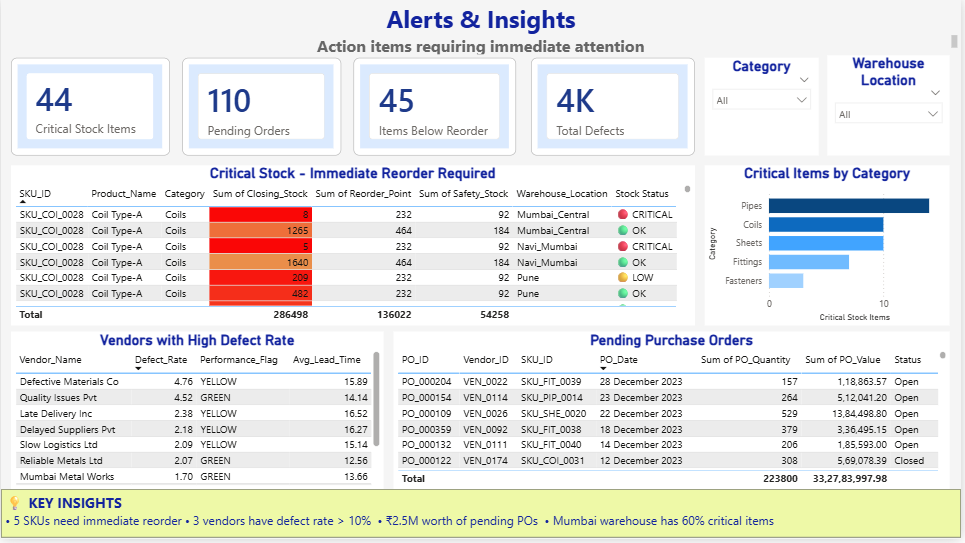

Layout of this report page (visuals, bound fields, positions):
{"tool":"powerbi","page":{"name":"Alerts & Insights","canvas":[1280,720],"ordinal":4},"visuals":[{"type":"textbox","box":[0,0,1280,55],"z":0},{"type":"textbox","box":[0,43.3,1280,35],"z":1000},{"type":"cardVisual","fields":{"Data":["_Measures.Critical Stock Items"]},"box":[13.3,78.3,211.7,130],"z":2000},{"type":"cardVisual","fields":{"Data":["_Measures.Items Below Reorder"]},"box":[470,78.3,216.7,130],"z":3000},{"type":"cardVisual","fields":{"Data":["_Measures.Total Defects"]},"box":[706.7,78.3,218.3,130],"z":4000},{"type":"cardVisual","fields":{"Data":["_Measures.Pending Orders"]},"box":[241.7,78.3,211.7,130],"z":5000},{"type":"tableEx","title":"Critical Stock - Immediate Reorder Required","fields":{"Values":["inventory_data.SKU_ID","inventory_data.Product_Name","inventory_data.Category","Sum(inventory_data.Closing_Stock)","Sum(inventory_data.Reorder_Point)","Sum(inventory_data.Safety_Stock)","inventory_data.Warehouse_Location","inventory_data.Stock Status"]},"box":[13.3,221.7,911.7,213.3],"z":5001},{"type":"tableEx","title":"Vendors with High Defect Rate","fields":{"Values":["vendor_scorecard.Vendor_Name","vendor_scorecard.Defect_Rate","vendor_scorecard.Performance_Flag","vendor_scorecard.Avg_Lead_Time"]},"box":[13.3,443.3,496.7,210],"z":5002},{"type":"clusteredBarChart","title":"Critical Items by Category","fields":{"Category":["inventory_data.Category"],"Y":["_Measures.Critical Stock Items"]},"box":[938.3,221.7,326.7,213.3],"z":5003},{"type":"tableEx","title":"Pending Purchase Orders","fields":{"Values":["purchase_orders.PO_ID","purchase_orders.Vendor_ID","purchase_orders.SKU_ID","purchase_orders.PO_Date","Sum(purchase_orders.PO_Quantity)","Sum(purchase_orders.PO_Value)","purchase_orders.Status"]},"box":[523.3,443.3,741.7,210],"z":5004},{"type":"textbox","box":[0,653.3,1280,65],"z":5005},{"type":"slicer","title":" Category","fields":{"Values":["forecast_results.Category"]},"box":[938.3,78.3,151.7,130],"z":5006},{"type":"slicer","title":"Warehouse Location","fields":{"Values":["inventory_data.Warehouse_Location"]},"box":[1101.7,75,163.3,133.3],"z":5007}]}

Visuals, with their boxes in screenshot pixels (x1, y1, x2, y2), scaled from the page's 1280x720 canvas onto the 965x543 screenshot:
textbox: l=0, t=0, r=964, b=41
textbox: l=0, t=33, r=964, b=59
cardVisual - _Measures.Critical Stock Items: l=10, t=59, r=170, b=157
cardVisual - _Measures.Items Below Reorder: l=354, t=59, r=518, b=157
cardVisual - _Measures.Total Defects: l=533, t=59, r=697, b=157
cardVisual - _Measures.Pending Orders: l=182, t=59, r=342, b=157
"Critical Stock - Immediate Reorder Required" tableEx: l=10, t=167, r=697, b=328
"Vendors with High Defect Rate" tableEx: l=10, t=334, r=384, b=493
"Critical Items by Category" clusteredBarChart: l=707, t=167, r=954, b=328
"Pending Purchase Orders" tableEx: l=395, t=334, r=954, b=493
textbox: l=0, t=493, r=964, b=542
" Category" slicer: l=707, t=59, r=822, b=157
"Warehouse Location" slicer: l=831, t=57, r=954, b=157
